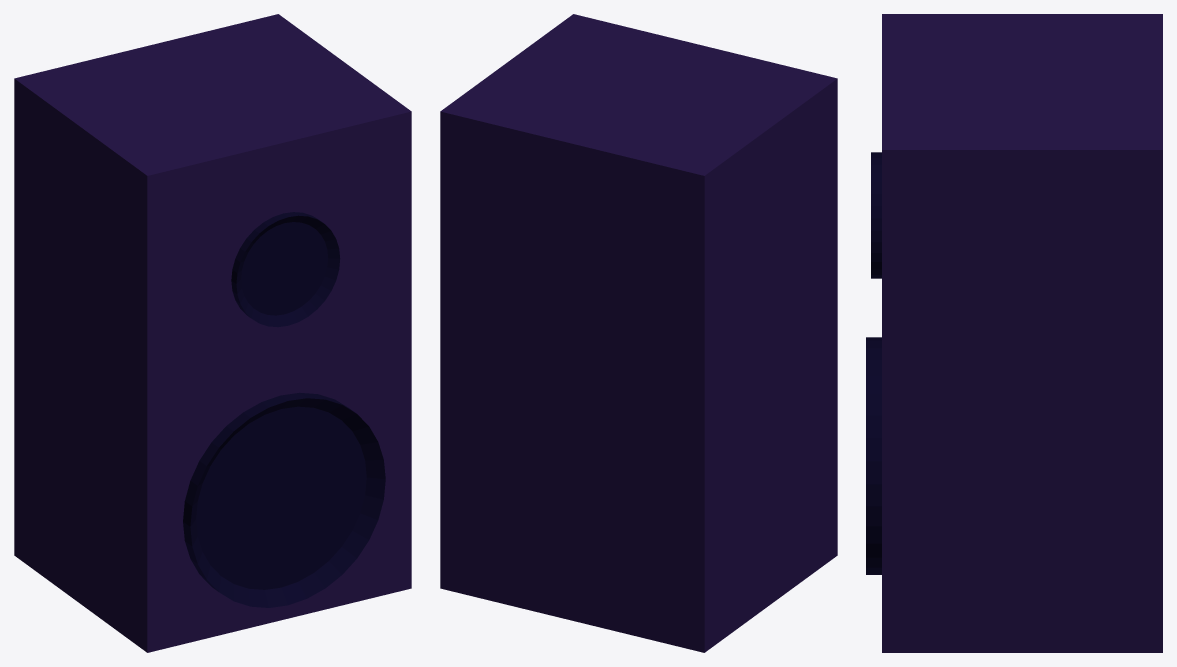
The model's file is enceinte.fbx.
3 views of the same model, side by side, from view 1: azimuth 30°, elevation 25°; view 2: azimuth 150°, elevation 25°; view 3: azimuth 270°, elevation 25° (orthographic). The views are drawn at different scales.
Visible parts, largest first — view 1: Cube, Enceinte 2, Enceinte 1; view 2: Cube; view 3: Cube, Enceinte 2, Enceinte 1.
Boxes of the visible parts, x1=… form: Cube: x1=14, y1=14, x2=411, y2=652; Enceinte 2: x1=183, y1=392, x2=385, y2=607; Enceinte 1: x1=231, y1=212, x2=340, y2=327; Cube: x1=440, y1=14, x2=837, y2=652; Cube: x1=882, y1=14, x2=1162, y2=652; Enceinte 2: x1=866, y1=337, x2=881, y2=574; Enceinte 1: x1=871, y1=152, x2=881, y2=278.
Bounding box in the file's own units: 211 × 365 × 195.
